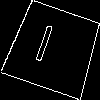I: (28, 23, 58, 72)
